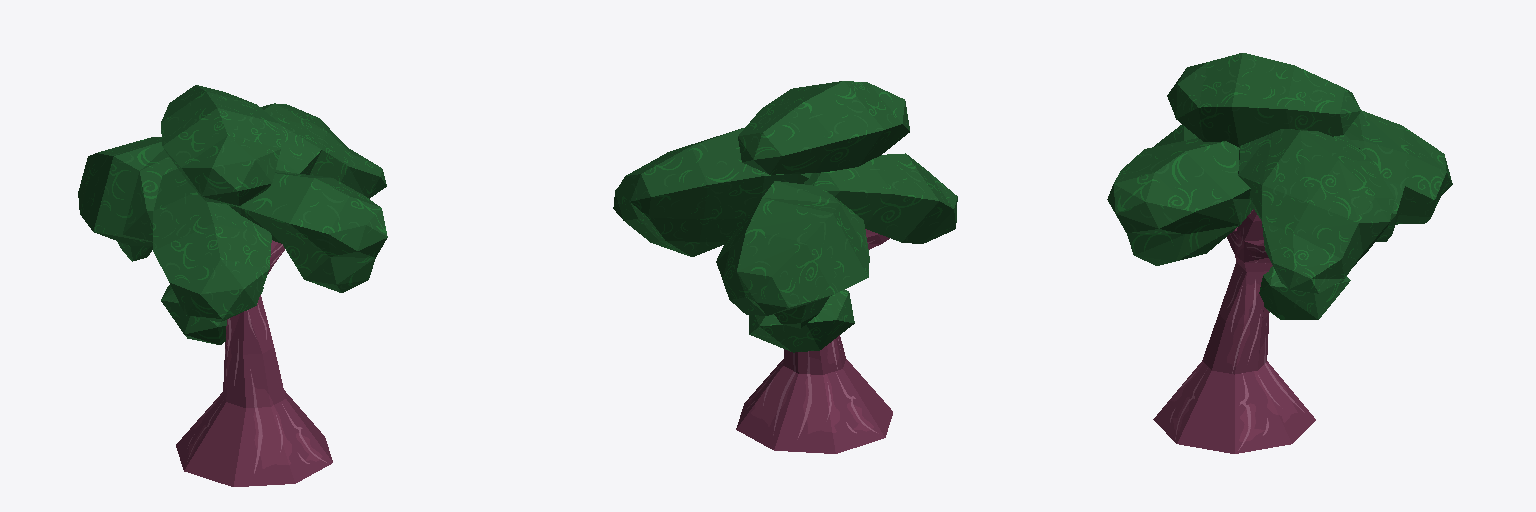
The picture shows the model from 3 angles: view 1: azimuth 30°, elevation 25°; view 2: azimuth 150°, elevation 25°; view 3: azimuth 270°, elevation 25°; orthographic projection.
Parts seen in each view (by area): view 1: tree1_Cylinder.002; view 2: tree1_Cylinder.002; view 3: tree1_Cylinder.002.
Boxes of the visible parts, <box> form: tree1_Cylinder.002: <box>78,85,387,486</box>; tree1_Cylinder.002: <box>613,81,957,453</box>; tree1_Cylinder.002: <box>1107,53,1452,453</box>.
Size of the model in its own units: 12.88 by 15.75 by 14.04.
2 materials, 2 textured.